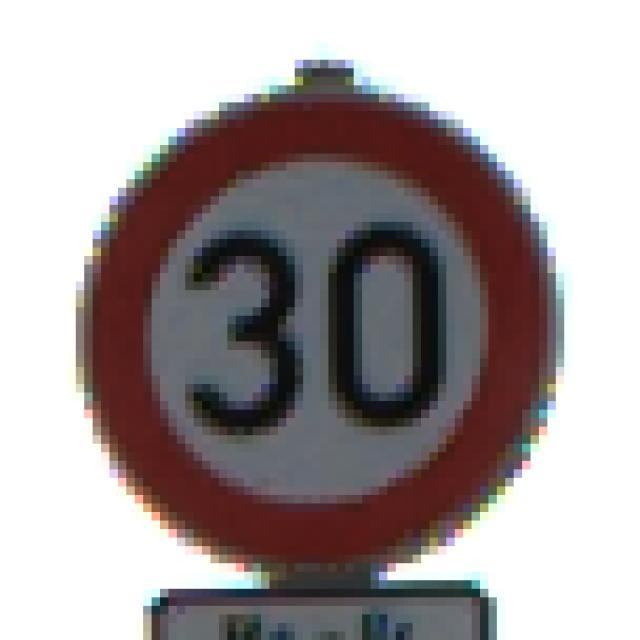Speed Limit -30-: (59, 47, 573, 576)
